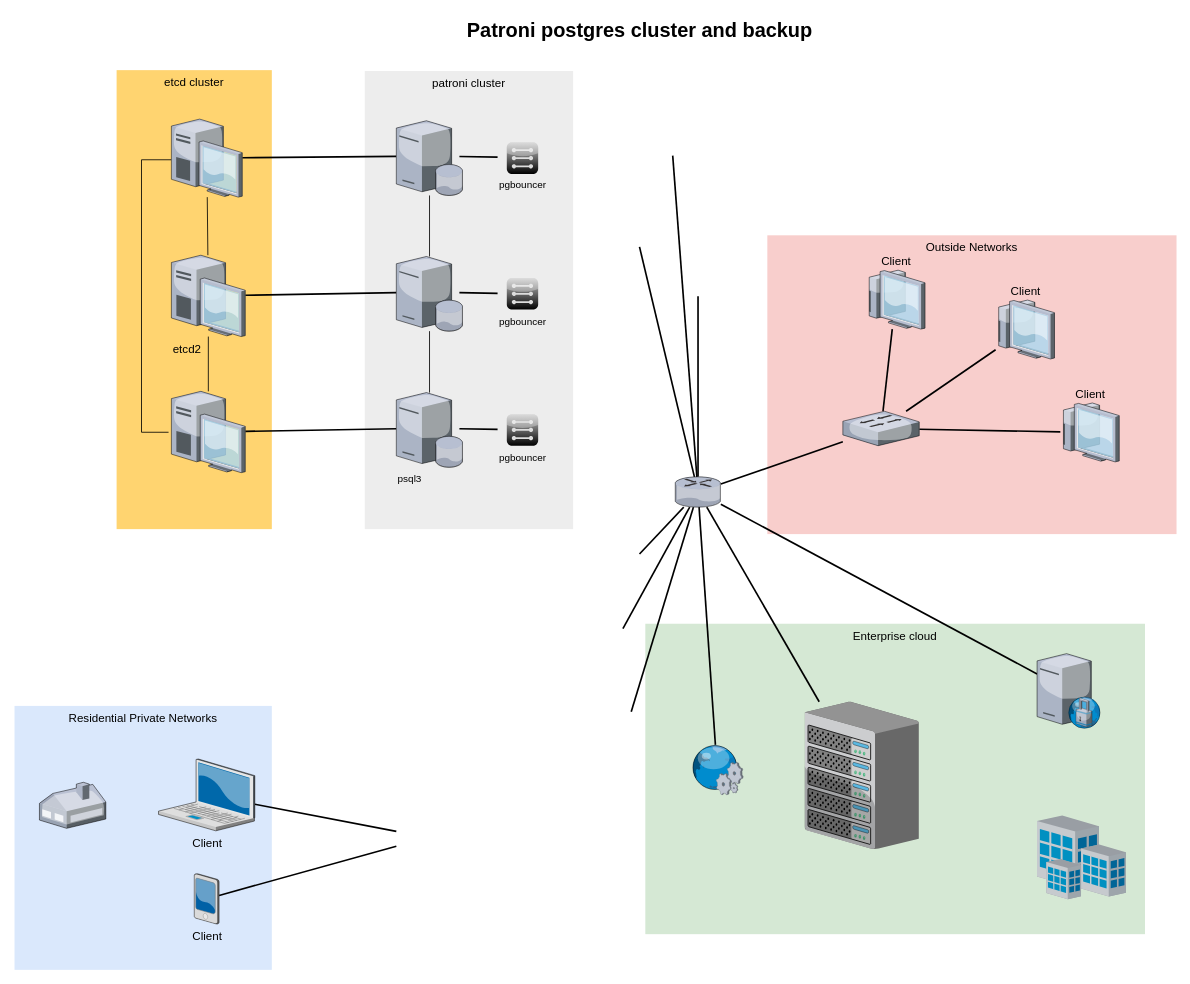
The diagram is 1190 pixels wide and 984 high, and some of its shapes have lost their labels. The centre of each missing label's shape, as x and y in pixels:
"DNS" belongs at point 861,775.
"etcd1" belongs at point 206,158.
"etcd3" belongs at point 208,431.
"psql1" belongs at point 429,157.
"psql2" belongs at point 429,293.
"Secure Server" belongs at point 1068,690.
"Web service" belongs at point 717,769.
